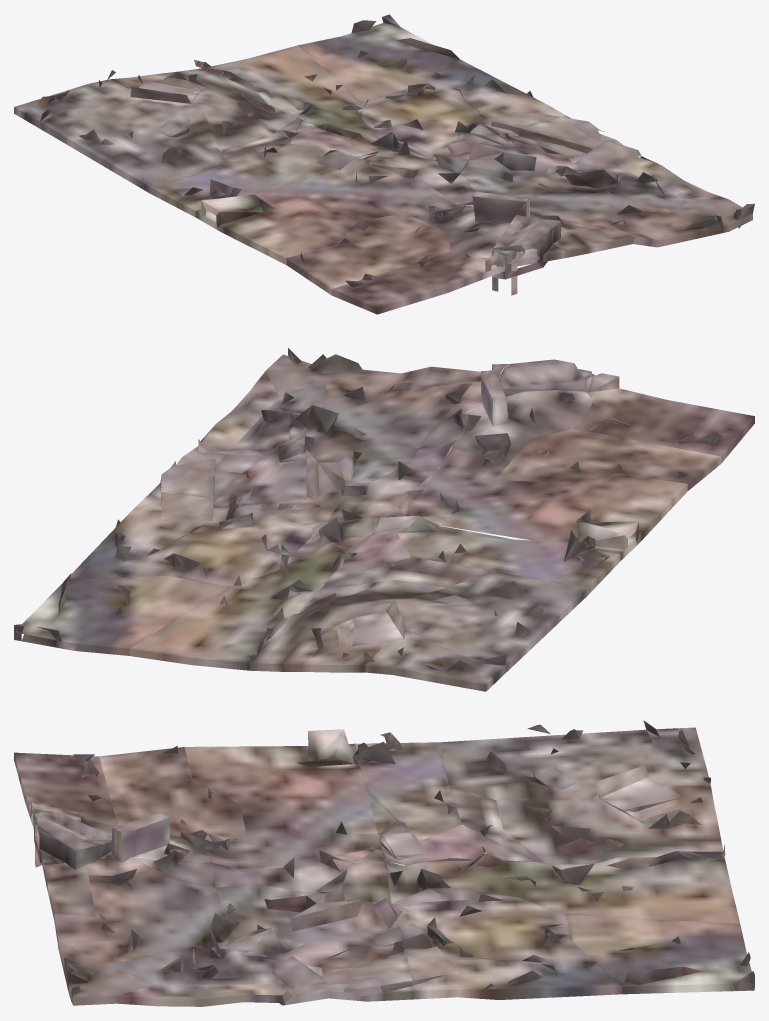
3 renders of one model, top to bottom at view 1: azimuth 30°, elevation 25°; view 2: azimuth 150°, elevation 25°; view 3: azimuth 270°, elevation 25°, orthographic. The views are drawn at different scales.
Parts seen in each view (by area): view 1: Mesh_0; view 2: Mesh_0; view 3: Mesh_0.
Boxes of the visible parts, bbox=[...] form: Mesh_0: bbox=[14, 14, 754, 314]; Mesh_0: bbox=[14, 348, 754, 691]; Mesh_0: bbox=[14, 720, 754, 1006].
Bounding box in the file's own units: 534 × 79.39 × 659.
Materials: 1 (1 with a texture image).
